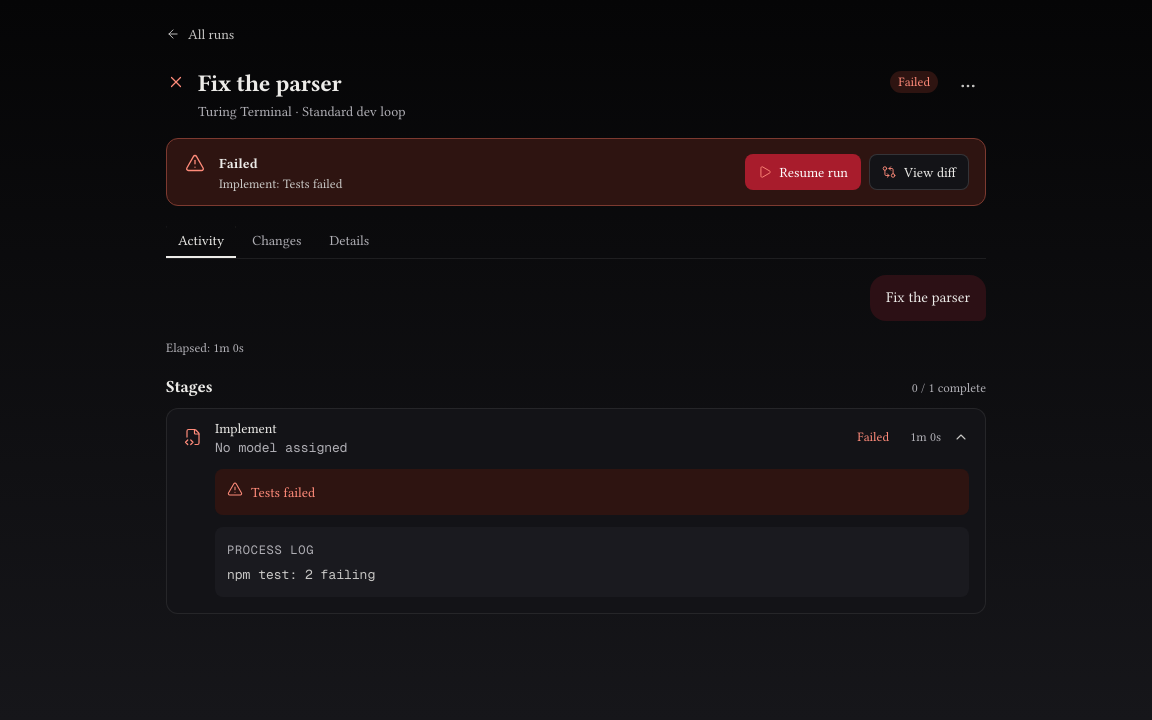
Test: lazy diff (matrix R1, R2) › [RED] the diff is split per file, with added and removed lines marked in text as well as colour
Click the tab "Changes" at (277, 240), box [240,222,313,258]
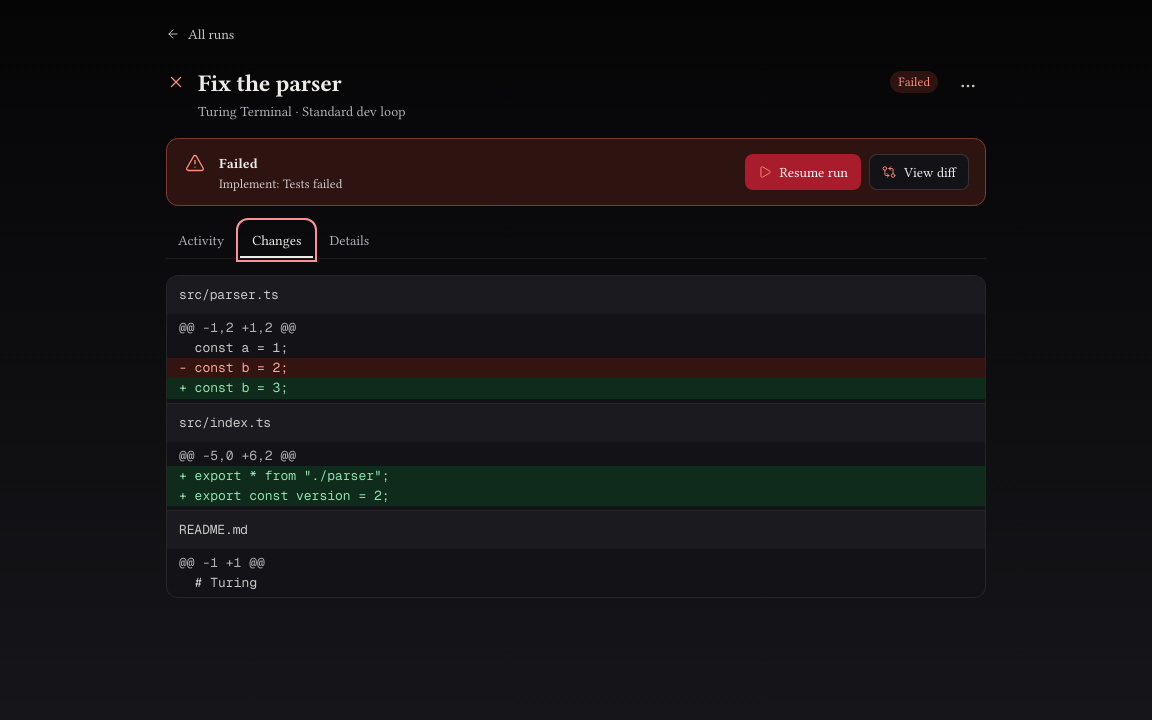
expect the heading "src/parser.ts" is shown: met, box [167,276,985,314]
expect the heading "src/index.ts" is shown: met, box [167,404,985,442]
expect the heading "README.md" is shown: met, box [167,511,985,549]
